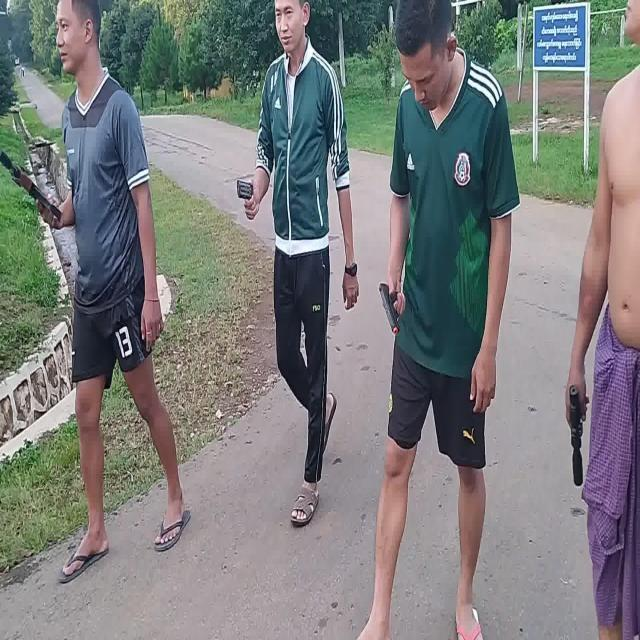gun: (1, 151, 63, 222), (379, 281, 399, 333)
